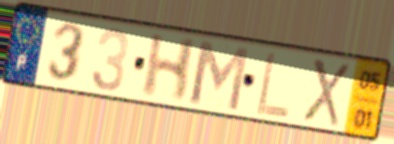3: (46, 21, 88, 84), (91, 26, 131, 92)
H: (138, 32, 200, 104)
L: (253, 49, 293, 121)
M: (188, 38, 252, 114)
X: (300, 56, 352, 130)
